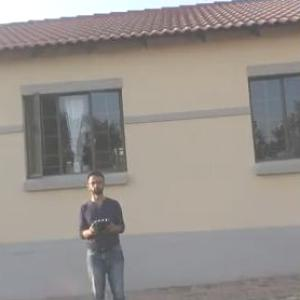follow: (74, 164, 133, 299)
